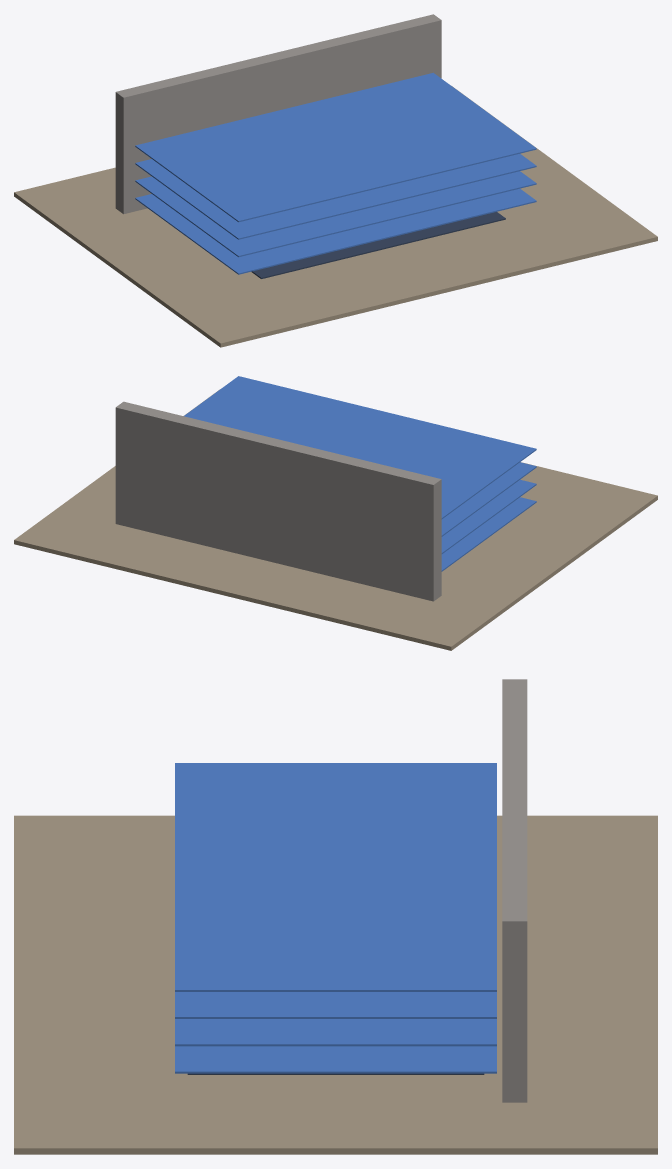
The model's file is stage_05_beams.glb.
3 views of the same model, one above another, from view 1: azimuth 30°, elevation 25°; view 2: azimuth 150°, elevation 25°; view 3: azimuth 270°, elevation 25° (orthographic). The views are drawn at different scales.
Parts seen in each view (by area): view 1: world; view 2: world; view 3: world.
Part boxes in pixels (x1,y1,x2,y2): world: [14, 14, 657, 347]; world: [14, 376, 657, 650]; world: [14, 679, 657, 1154].
Size of the model in its own units: 11 by 2.9 by 9.
